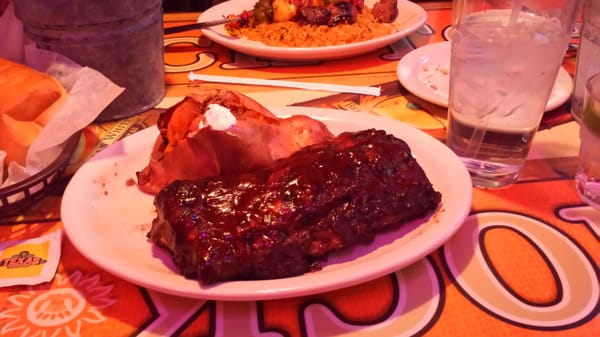pizza: (444, 2, 576, 189), (2, 1, 166, 119), (568, 3, 600, 208)
